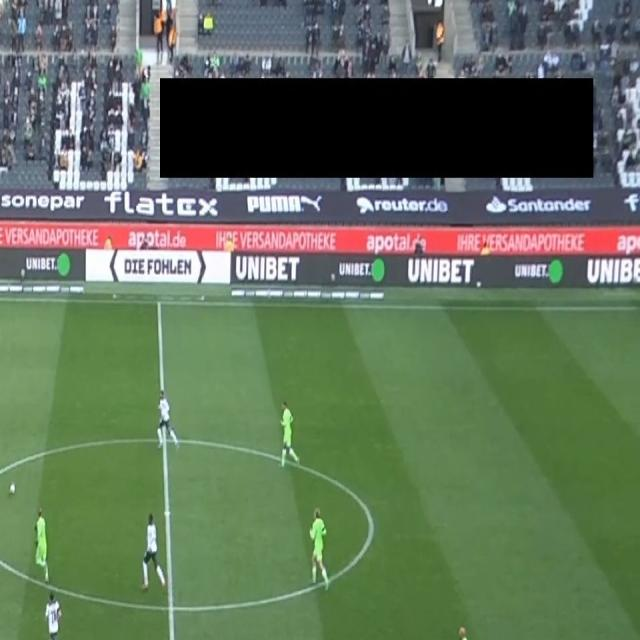ball: (8, 482, 16, 496)
